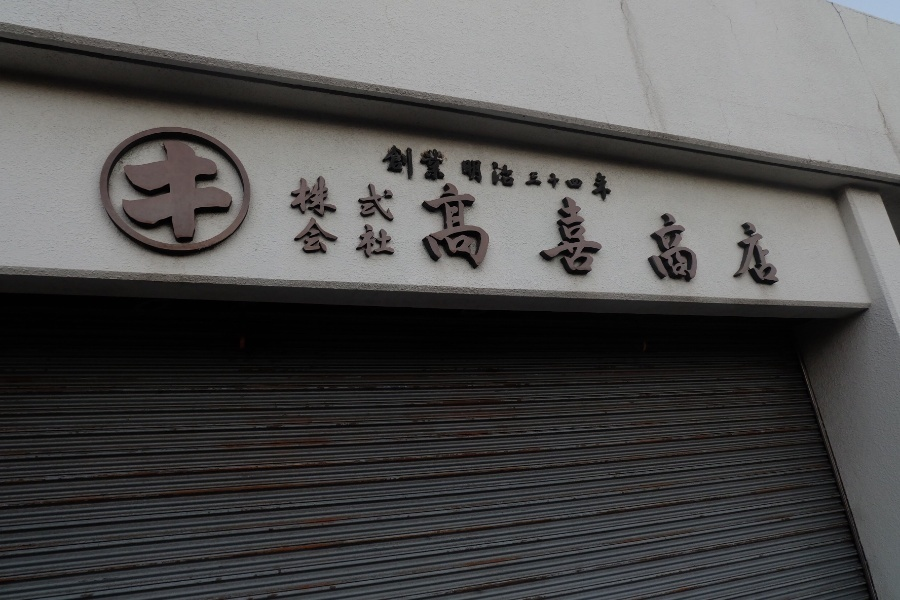text: (433, 178, 448, 288), (449, 178, 464, 288), (465, 178, 480, 288), (481, 178, 496, 288), (497, 178, 512, 288), (513, 178, 528, 288), (529, 178, 544, 288), (545, 178, 560, 288), (561, 178, 576, 288), (577, 178, 592, 288), (593, 178, 608, 288), (609, 178, 624, 288), (625, 178, 640, 288), (641, 178, 656, 288), (657, 178, 672, 288), (673, 178, 688, 288), (689, 178, 704, 288), (705, 178, 720, 288), (721, 178, 736, 288), (737, 178, 752, 288), (753, 178, 768, 288), (769, 178, 784, 288), (129, 141, 144, 243), (145, 141, 160, 243), (161, 141, 176, 243), (177, 141, 192, 243), (193, 141, 208, 243), (209, 141, 224, 243), (225, 141, 238, 243), (422, 178, 432, 288), (305, 173, 320, 224), (321, 173, 336, 224), (337, 173, 352, 224), (353, 173, 368, 224), (369, 173, 384, 224), (465, 159, 480, 204), (481, 159, 496, 204), (497, 159, 512, 204), (513, 159, 528, 204), (529, 159, 544, 204), (545, 159, 560, 204), (561, 159, 576, 204), (577, 159, 592, 204), (593, 159, 608, 204), (291, 173, 304, 224), (305, 217, 320, 260), (321, 217, 336, 260), (337, 217, 352, 260), (353, 217, 368, 260), (369, 217, 384, 260), (385, 146, 400, 183), (401, 146, 416, 183), (417, 146, 432, 183), (385, 173, 395, 224), (433, 146, 446, 183), (385, 217, 395, 260), (295, 217, 304, 260), (125, 141, 128, 243), (461, 159, 464, 204), (609, 159, 612, 204), (785, 178, 786, 288), (382, 146, 384, 183)
